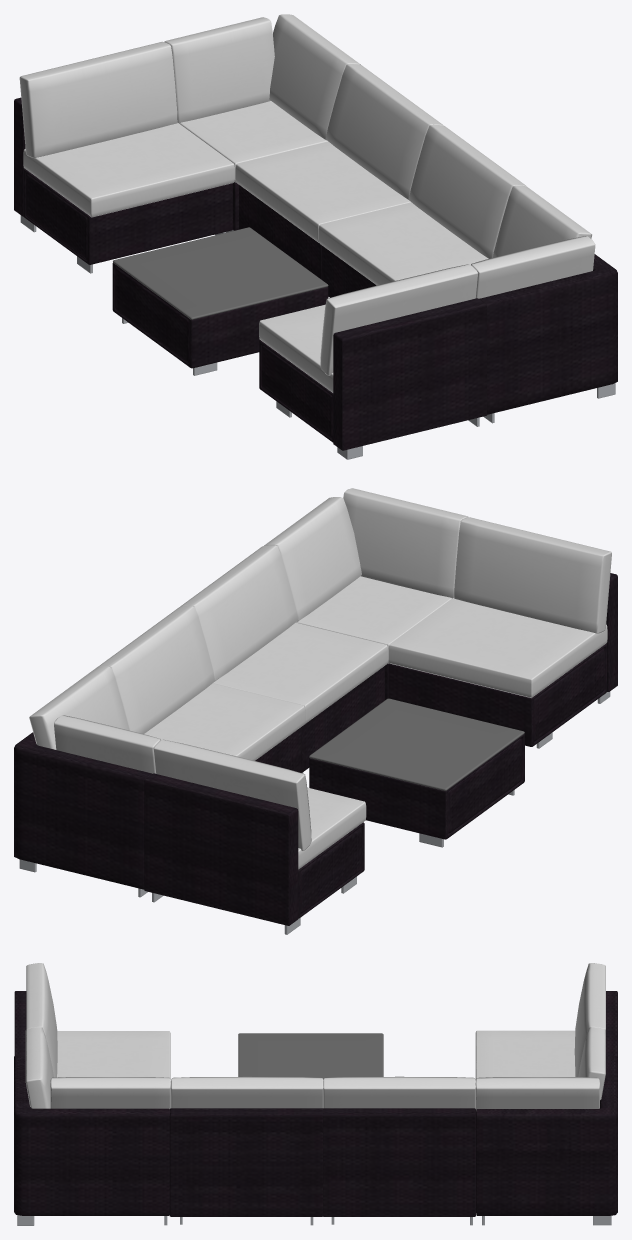
3 renders of one model, top to bottom at view 1: azimuth 30°, elevation 25°; view 2: azimuth 150°, elevation 25°; view 3: azimuth 270°, elevation 25°, orthographic. The views are drawn at different scales.
Visible parts, largest first — view 1: polySurface216.001, polySurface144.001, polySurface89, polySurface105.001; view 2: polySurface216.001, polySurface144.001, polySurface89, polySurface105.001; view 3: polySurface144.001, polySurface216.001, polySurface89, polySurface105.001.
Part boxes in pixels (box(x1,y1,x2,y2)): polySurface216.001: box(19, 14, 595, 392); polySurface144.001: box(14, 97, 617, 450); polySurface89: box(113, 227, 328, 319); polySurface105.001: box(20, 215, 615, 459); polySurface216.001: box(29, 488, 611, 869); polySurface144.001: box(14, 573, 617, 925); polySurface89: box(309, 698, 524, 790); polySurface105.001: box(19, 691, 610, 934); polySurface144.001: box(14, 991, 617, 1216); polySurface216.001: box(25, 963, 605, 1110); polySurface89: box(238, 1033, 383, 1079); polySurface105.001: box(17, 1215, 611, 1225).
Bounding box in the file's own units: 0.6577 × 0.3128 × 1.22.
Materials: 4 (4 with a texture image).
